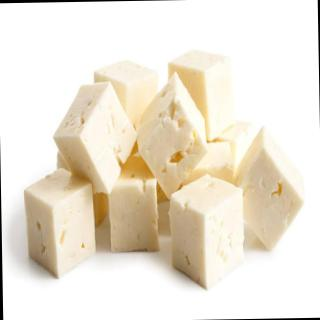Tahu: (17, 39, 312, 300)
